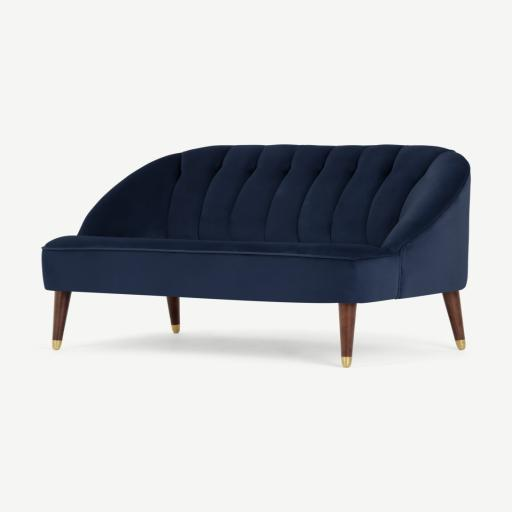back_cushion: (80, 145, 468, 260)
left_arm: (397, 171, 470, 298)
legs: (443, 291, 465, 350), (338, 303, 357, 367), (52, 292, 70, 349), (167, 297, 179, 333)
one-seater: (42, 145, 470, 367)
seat_cushion: (43, 236, 399, 302)
